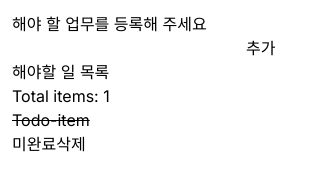
Test: TodoProvider › Click incomplete, and check status being completed
Click the button "미완료".
click(34, 144)  # box [12,132,56,156]
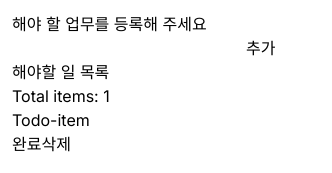
Expected: the button "미완료" is shown, [12,132,42,156]
